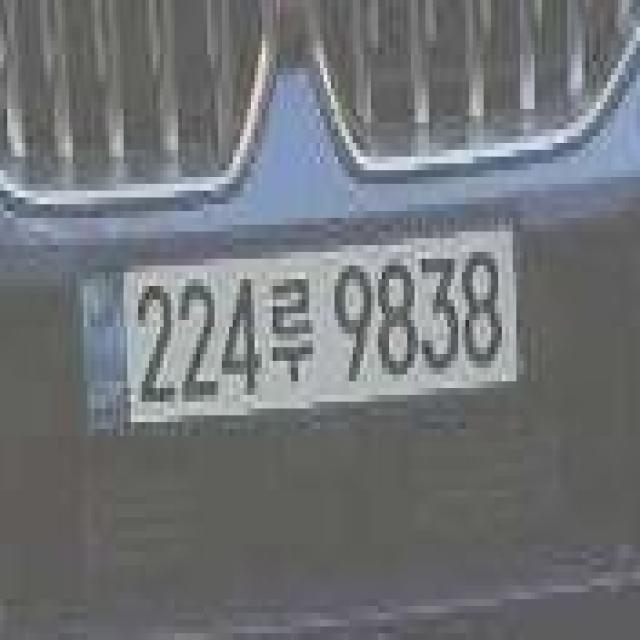illegal_plate: (70, 214, 527, 445)
